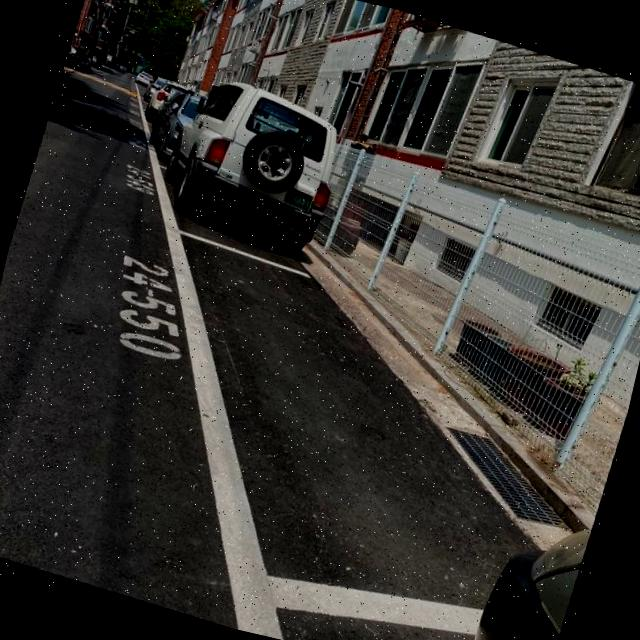car: (160, 75, 358, 258)
free: (94, 224, 538, 630)
